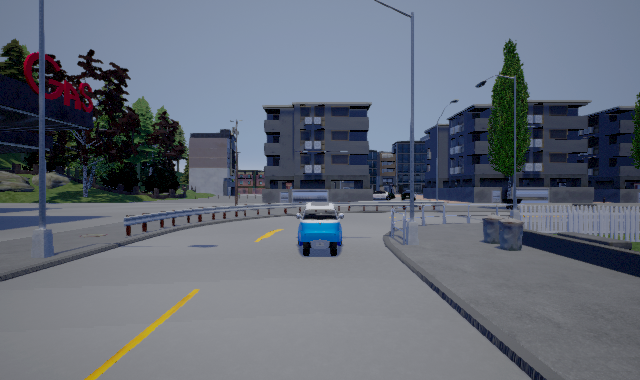vehicle: (296, 202, 346, 256)
